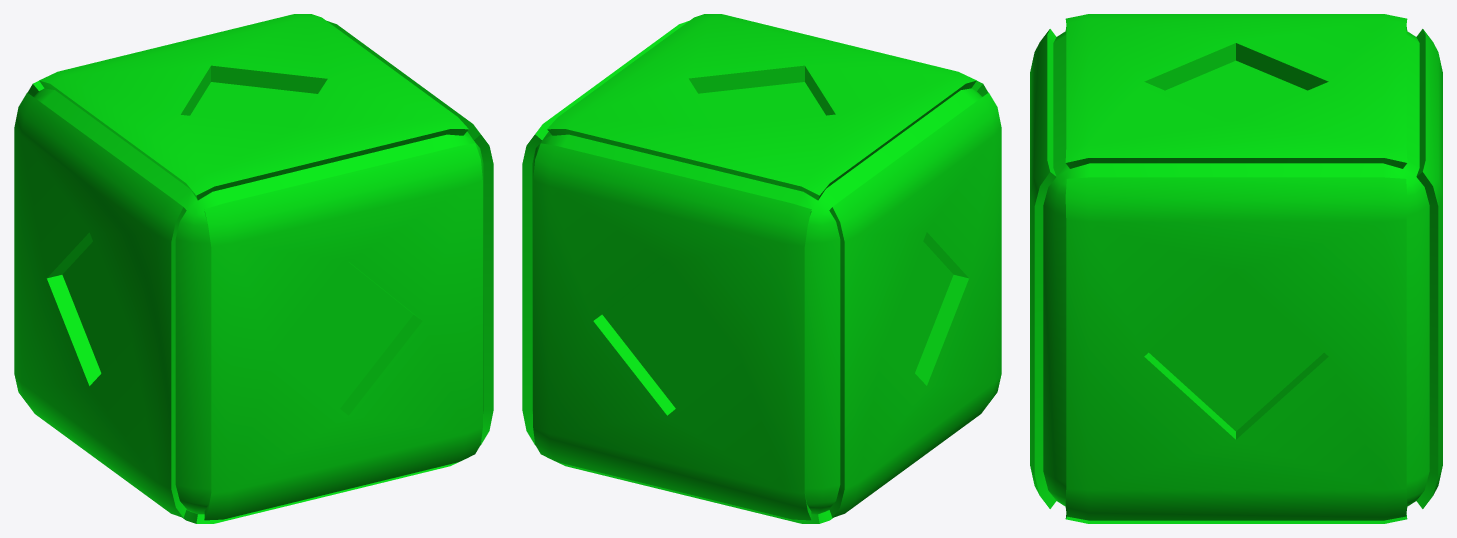
3 views of the same model, side by side, from view 1: azimuth 30°, elevation 25°; view 2: azimuth 150°, elevation 25°; view 3: azimuth 270°, elevation 25° (orthographic). The views are drawn at different scales.
Parts seen in each view (by area): view 1: Cube; view 2: Cube; view 3: Cube.
Part boxes in pixels (x1,y1,x2,y2): Cube: [14, 14, 493, 523]; Cube: [522, 14, 1001, 523]; Cube: [1030, 14, 1442, 523].
Size of the model in its own units: 200 by 200 by 200.
